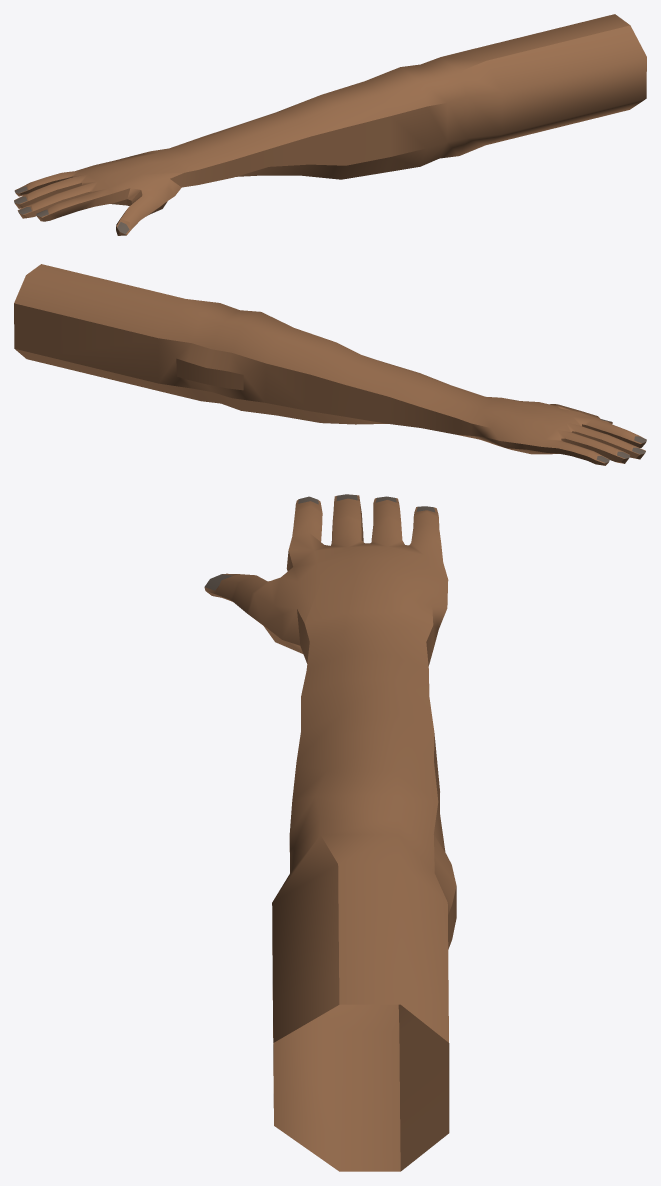
File: hand.FBX
The picture shows the model from 3 angles, top to bottom: view 1: azimuth 30°, elevation 25°; view 2: azimuth 150°, elevation 25°; view 3: azimuth 270°, elevation 25°; orthographic projection. The views are drawn at different scales.
Parts seen in each view (by area): view 1: Box001; view 2: Box001; view 3: Box001.
Part boxes in pixels (x1,y1,x2,y2): Box001: (14, 14, 646, 235); Box001: (14, 264, 646, 465); Box001: (204, 494, 456, 1171).
Bounding box in the file's own units: 75.69 × 10.01 × 13.65.
